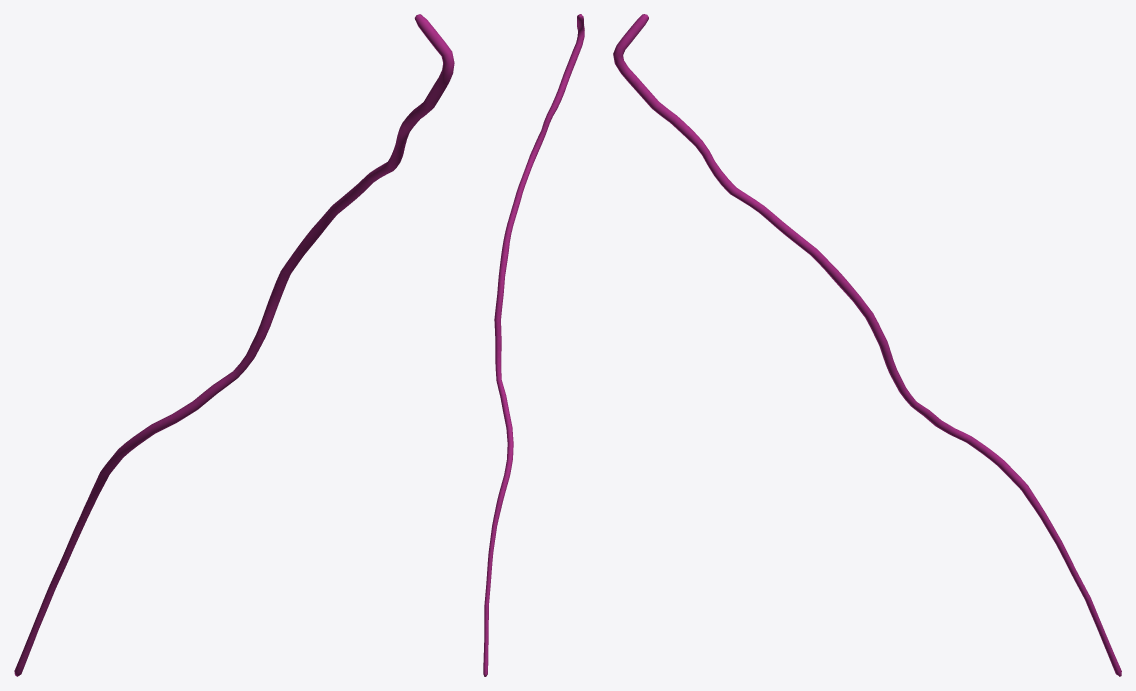
File: CN XI - Accessory Nerve.glb
3 views of the same model, side by side, from view 1: azimuth 30°, elevation 25°; view 2: azimuth 150°, elevation 25°; view 3: azimuth 270°, elevation 25° (orthographic). The views are drawn at different scales.
Parts seen in each view (by area): view 1: CN XI - Accessory Nerve.glb; view 2: CN XI - Accessory Nerve.glb; view 3: CN XI - Accessory Nerve.glb.
Boxes of the visible parts, bbox=[...] form: CN XI - Accessory Nerve.glb: bbox=[14, 14, 454, 676]; CN XI - Accessory Nerve.glb: bbox=[483, 14, 584, 676]; CN XI - Accessory Nerve.glb: bbox=[613, 14, 1121, 676].
Size of the model in its own units: 0.0712 by 0.364 by 0.235.
1 material, 1 textured.
